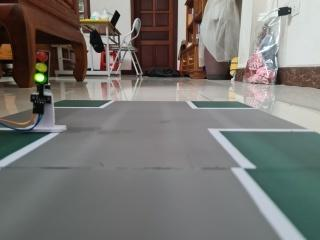green: (27, 45, 51, 99)
